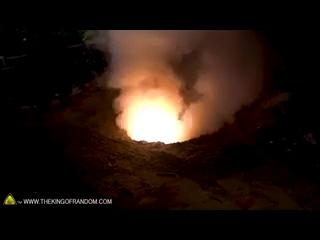Fire: (114, 82, 192, 145)
